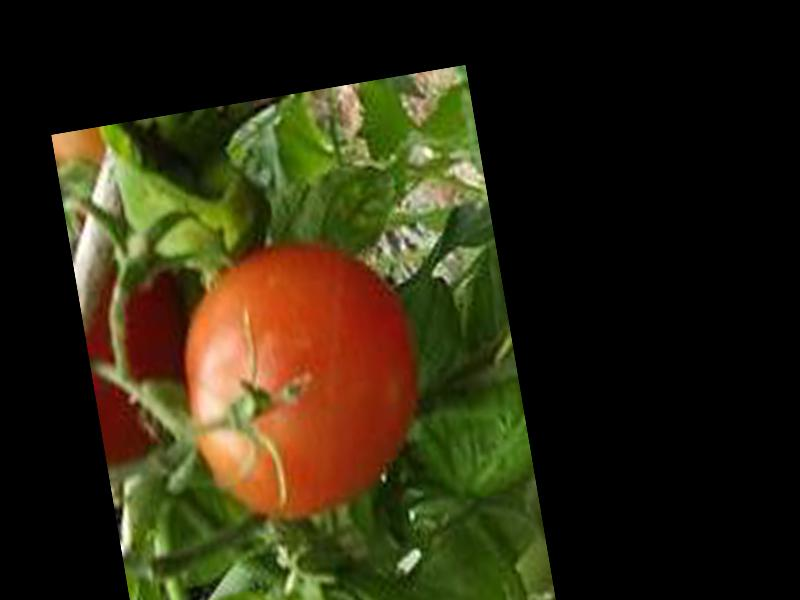Tomato: (165, 231, 431, 530)
